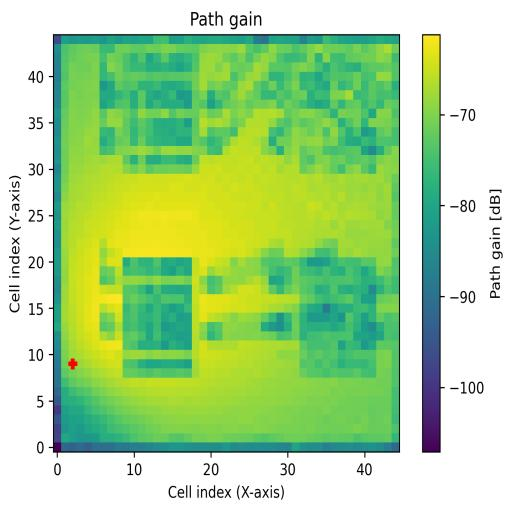Concrete: (299, 54, 376, 172)
Glass: (122, 54, 201, 174)
Metal: (300, 257, 377, 378)
Wood: (123, 256, 192, 378)
